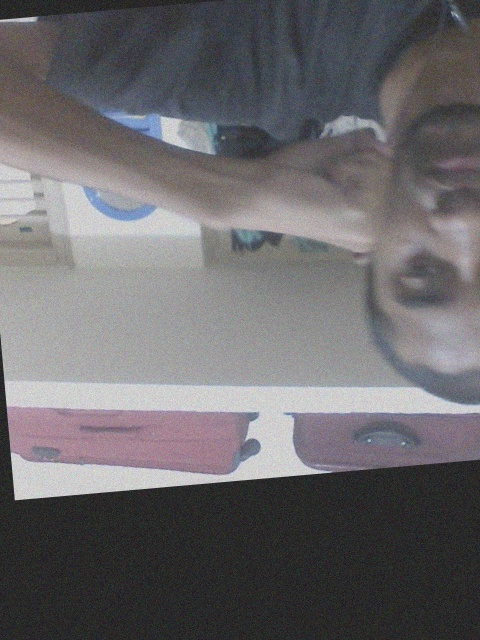hand: (215, 127, 387, 260)
